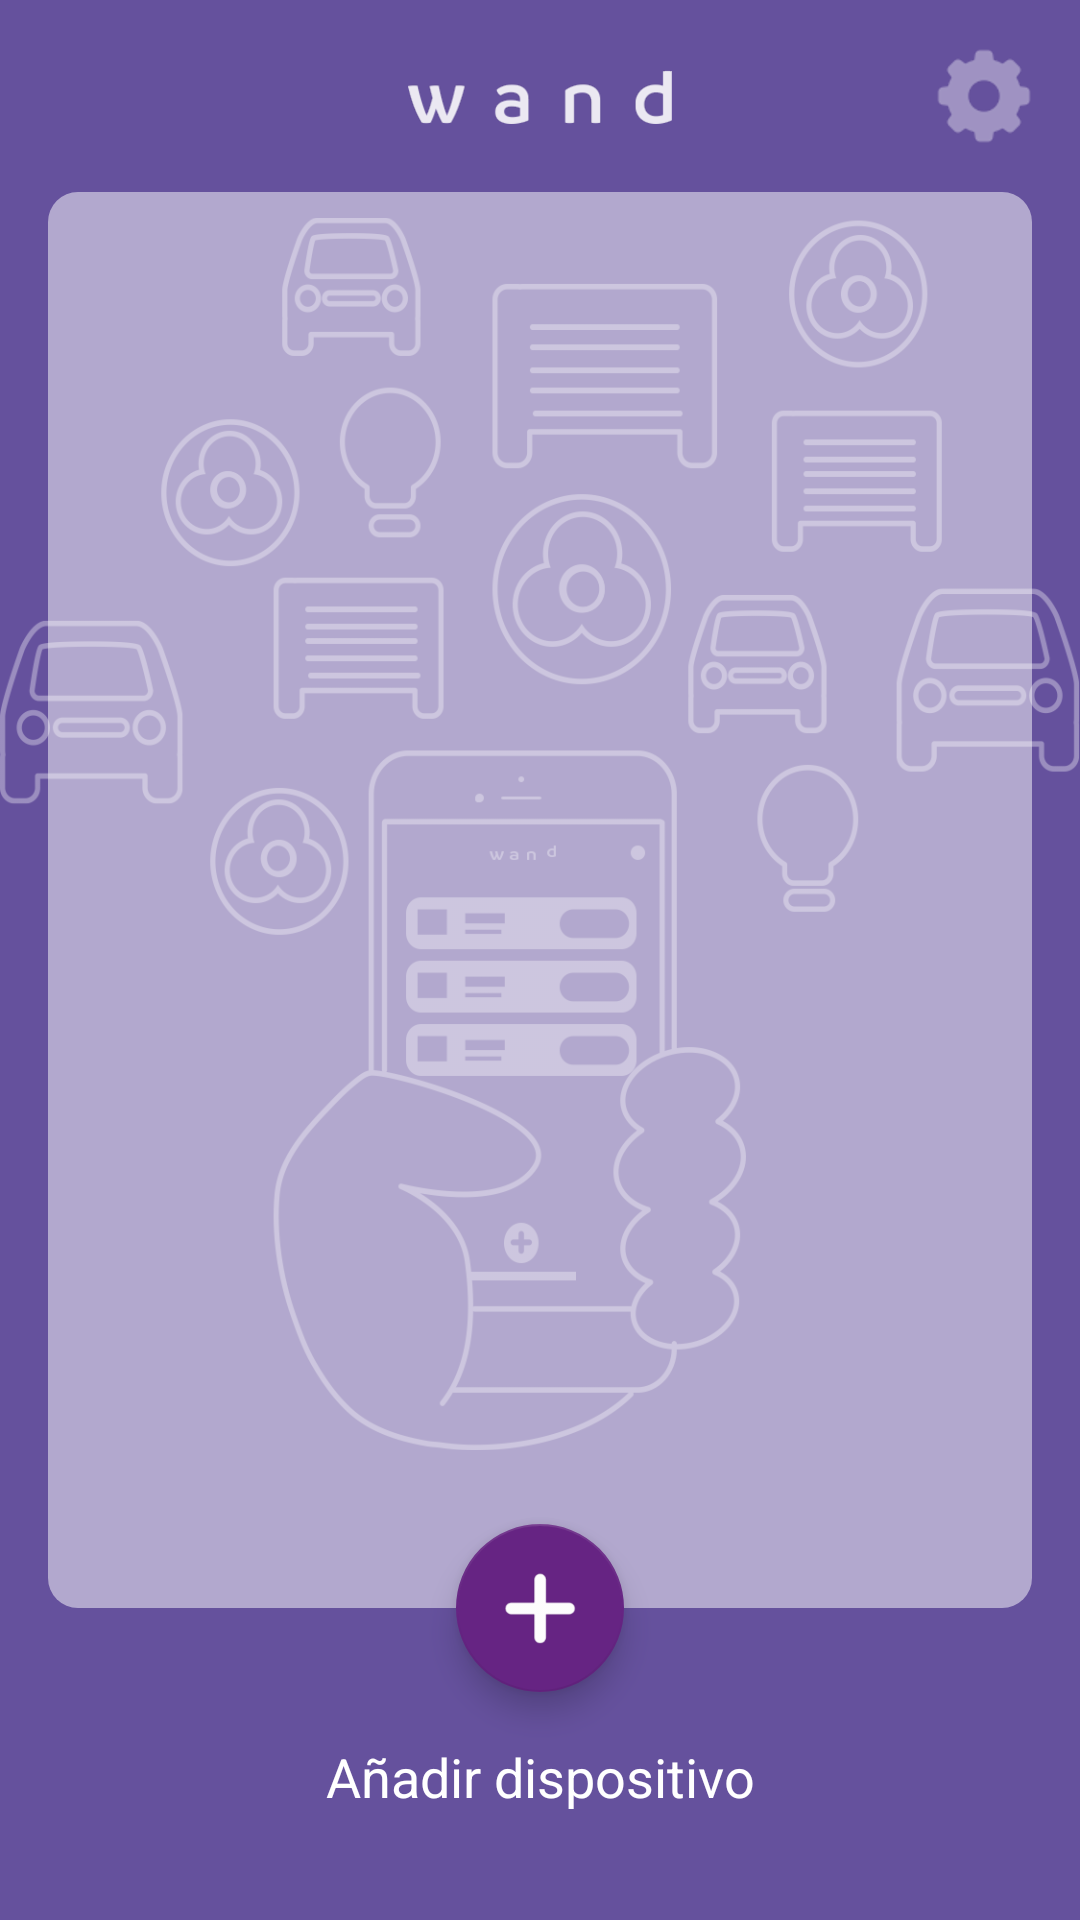

Icons on this 1080*1920 Android screen, each with the point to tap as (x=x, y=y):
plus: (x=540, y=1608)
settings: (x=984, y=96)
